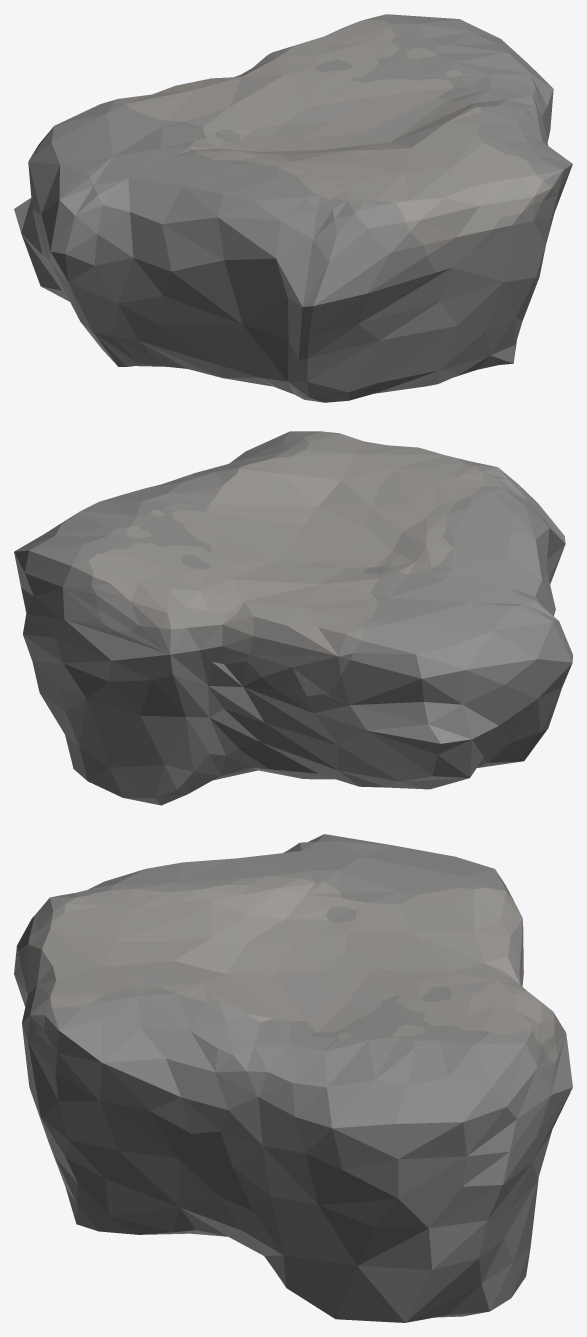
Rendered from Cavern_Floor_Wide_Narrow-01.fbx.
3 views of the same model, one above another, from view 1: azimuth 30°, elevation 25°; view 2: azimuth 150°, elevation 25°; view 3: azimuth 270°, elevation 25° (orthographic). The views are drawn at different scales.
Parts seen in each view (by area): view 1: Cavern_Floor_Wide_Narrow-01; view 2: Cavern_Floor_Wide_Narrow-01; view 3: Cavern_Floor_Wide_Narrow-01.
Boxes of the visible parts, x1,y1,x2,y2 form: Cavern_Floor_Wide_Narrow-01: [14, 14, 572, 402]; Cavern_Floor_Wide_Narrow-01: [14, 431, 572, 805]; Cavern_Floor_Wide_Narrow-01: [14, 834, 572, 1322].
Bounding box in the file's own units: 1417 × 659 × 1148.
Materials: 1 (1 with a texture image).
